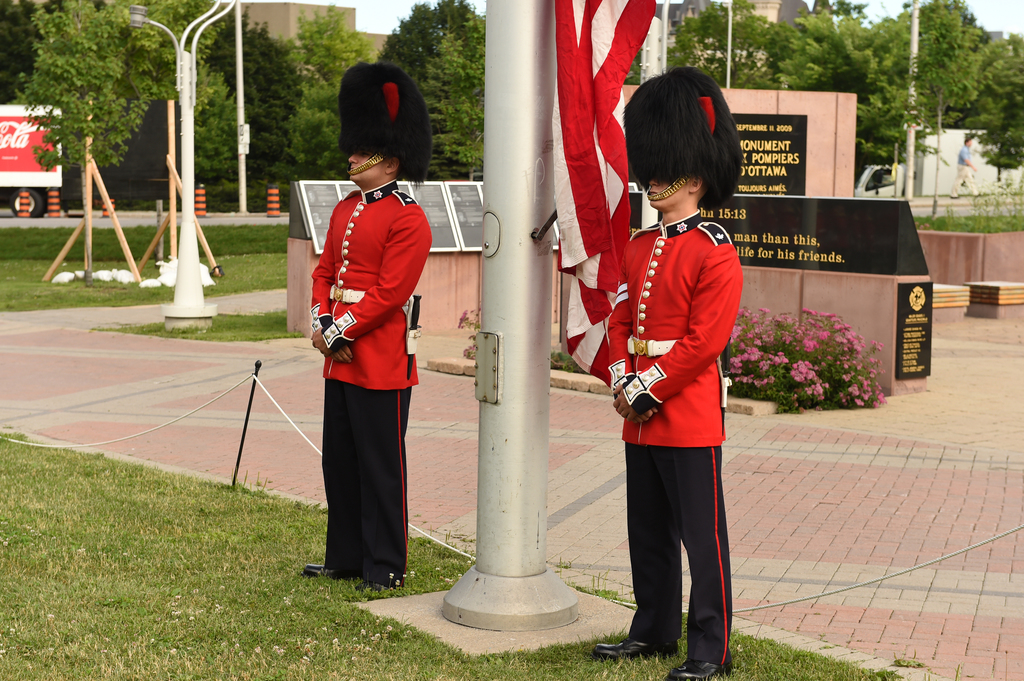Tree: (620, 0, 1023, 206), (16, 0, 234, 292), (372, 0, 487, 184), (282, 1, 375, 199), (200, 19, 304, 182), (421, 14, 497, 194)
